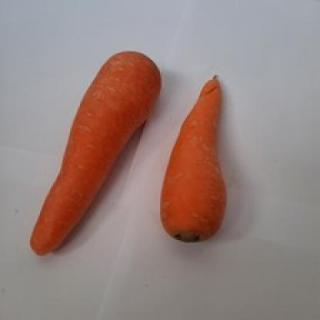Wortel: (29, 51, 161, 256), (162, 73, 228, 245)
